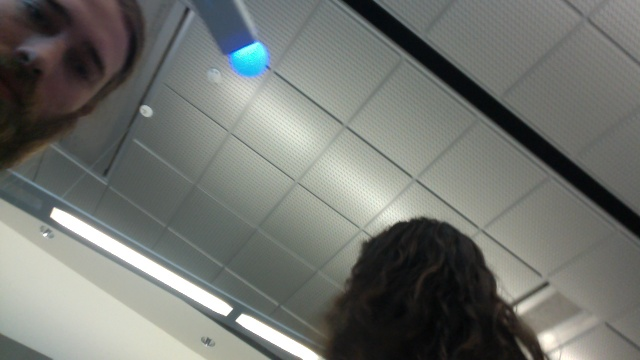wand: (232, 44, 267, 77)
